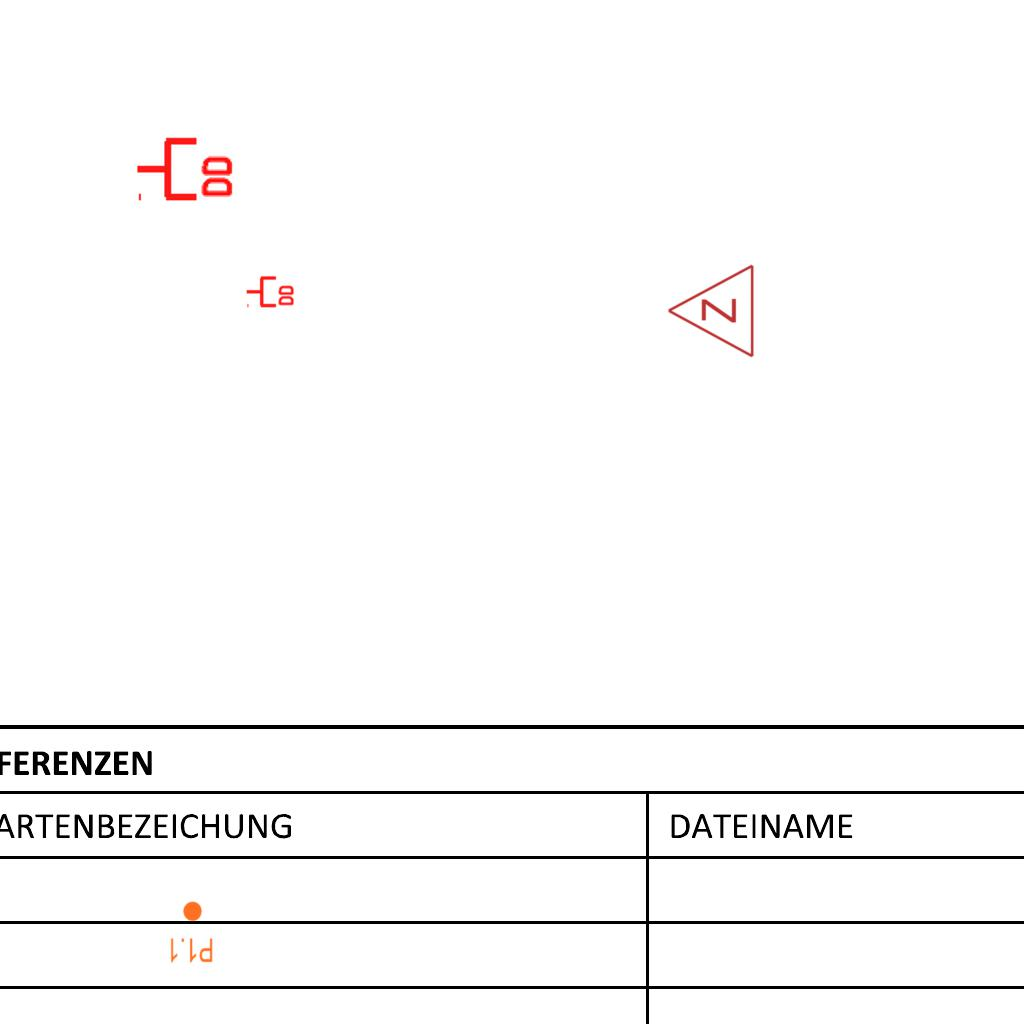Datenanschluss_zweifach: (134, 133, 237, 202), (245, 274, 296, 308)
Downlight_LED_Einbauleuchten_Flur: (168, 900, 214, 964)
Zimmersignalleuchte: (661, 263, 761, 361)
